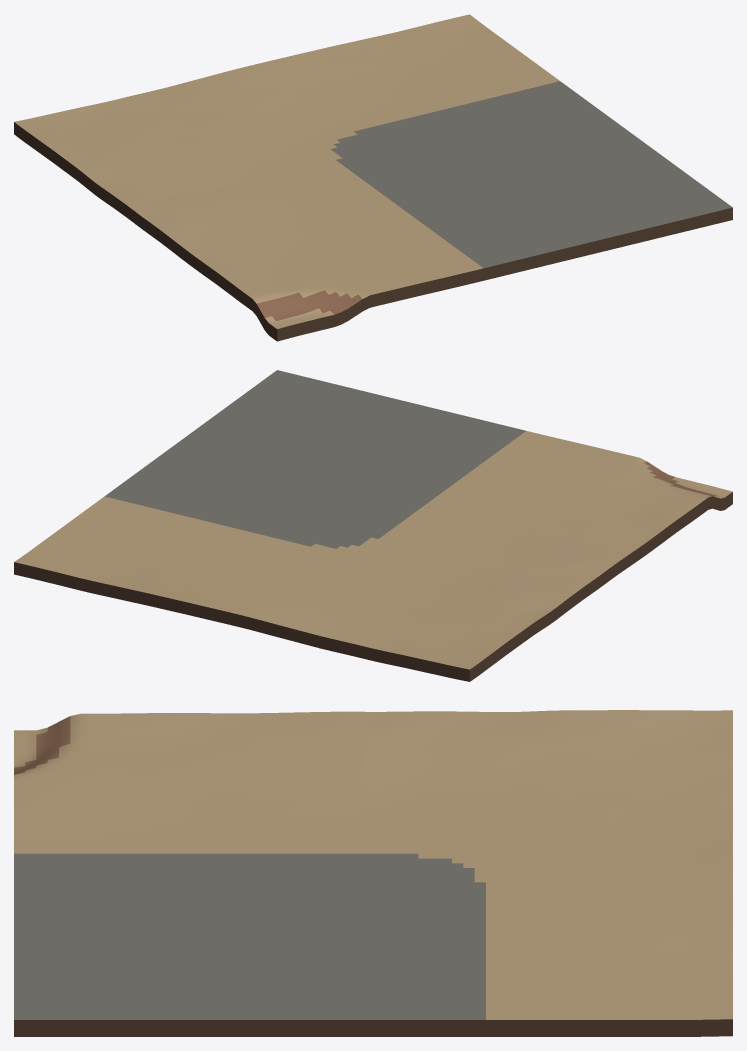
Rendered from Terrain_03_04.fbx.
3 views of the same model, one above another, from view 1: azimuth 30°, elevation 25°; view 2: azimuth 150°, elevation 25°; view 3: azimuth 270°, elevation 25° (orthographic). The views are drawn at different scales.
Parts seen in each view (by area): view 1: Terrain_03_04_LOD0; view 2: Terrain_03_04_LOD0; view 3: Terrain_03_04_LOD0.
Boxes of the visible parts, x1,y1,x2,y2 form: Terrain_03_04_LOD0: (14, 14, 732, 341); Terrain_03_04_LOD0: (14, 370, 732, 681); Terrain_03_04_LOD0: (14, 710, 732, 1036).
Size of what is drawn, in the model's own units: 384 by 21.95 by 384.
